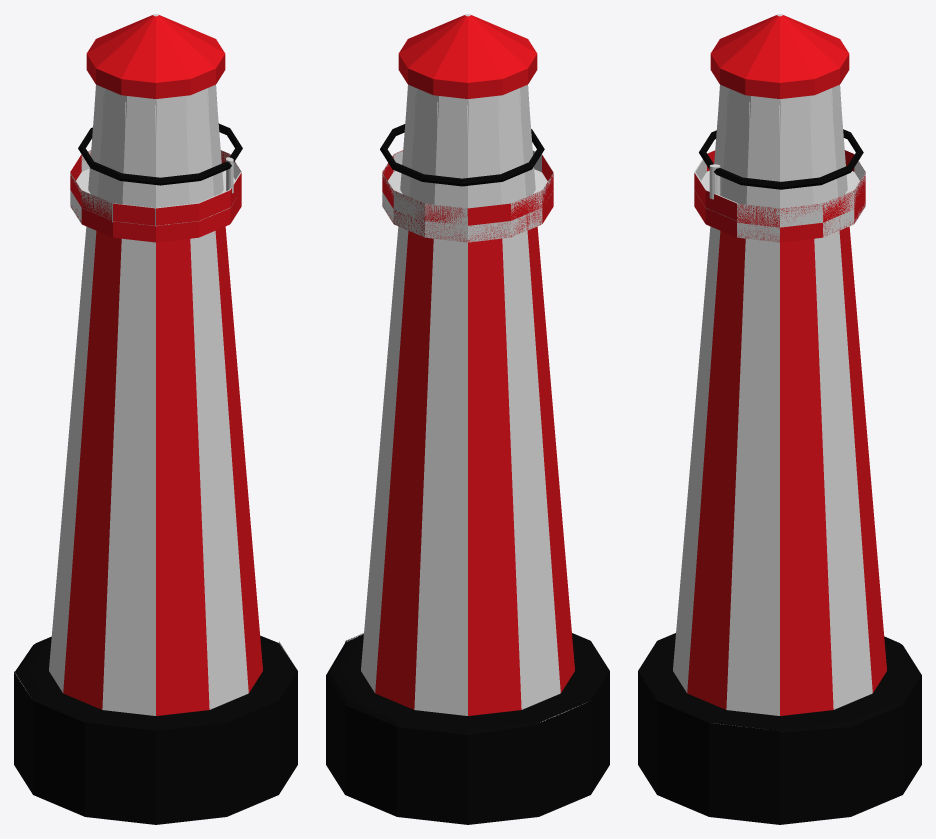
The model's file is LightHouse.fbx.
The picture shows the model from 3 angles, left to right: view 1: azimuth 30°, elevation 25°; view 2: azimuth 150°, elevation 25°; view 3: azimuth 270°, elevation 25°; orthographic projection.
Parts seen in each view (by area): view 1: Cylinder, Torus.003; view 2: Cylinder, Torus.003; view 3: Cylinder, Torus.003.
Part boxes in pixels (x1,y1,x2,y2): Cylinder: (14, 14, 297, 824); Torus.003: (78, 123, 242, 185); Cylinder: (326, 14, 609, 824); Torus.003: (380, 124, 544, 186); Cylinder: (638, 14, 921, 824); Torus.003: (699, 129, 863, 189).
Size of the model in its own units: 199 by 581 by 199.
